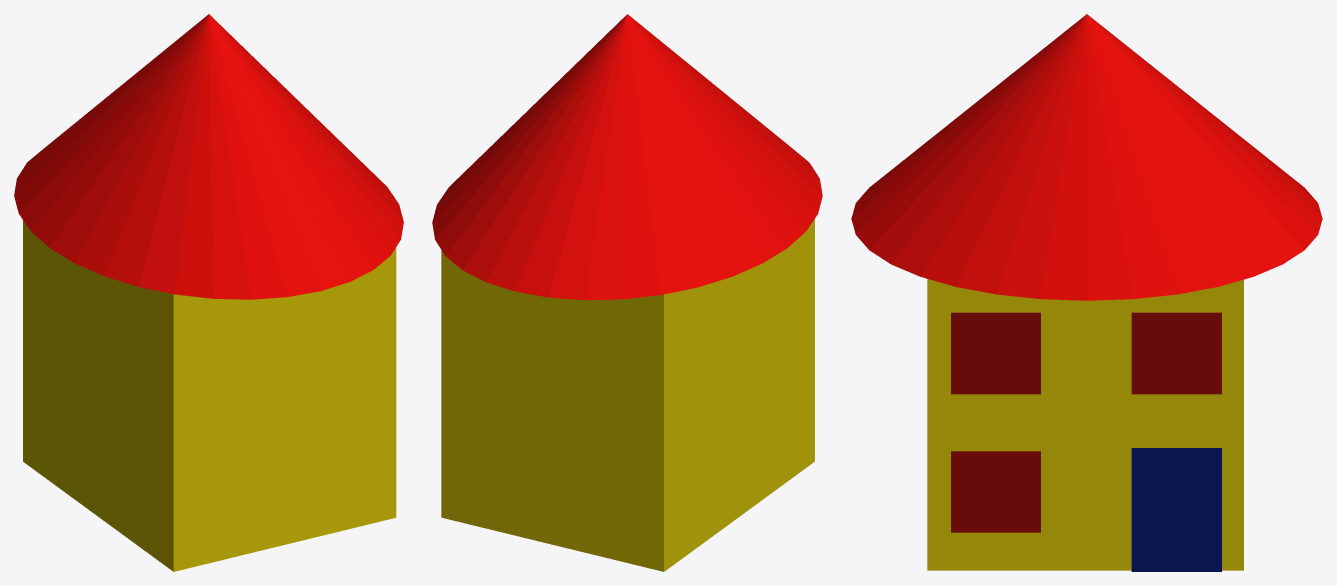
Rendered from building 4.fbx.
3 renders of one model, left to right at view 1: azimuth 30°, elevation 25°; view 2: azimuth 150°, elevation 25°; view 3: azimuth 270°, elevation 25°, orthographic. The views are drawn at different scales.
Visible parts, largest first — view 1: Cone.001, Cube.010, Cube.011; view 2: Cone.001, Cube.010, Cube.011; view 3: Cone.001, Cube.010, Cube.011, Plane.029, Plane.025, Plane.024, Plane.027.
Part boxes in pixels (x1,y1,x2,y2): Cone.001: [14, 14, 403, 299]; Cube.010: [23, 322, 396, 571]; Cube.011: [23, 220, 396, 431]; Cone.001: [432, 14, 822, 300]; Cube.010: [441, 322, 814, 571]; Cube.011: [441, 219, 814, 431]; Cone.001: [851, 14, 1322, 300]; Cube.010: [927, 423, 1243, 570]; Cube.011: [927, 279, 1243, 423]; Plane.029: [1131, 448, 1221, 571]; Plane.025: [1131, 312, 1221, 394]; Plane.024: [951, 312, 1040, 394]; Plane.027: [951, 451, 1040, 532].
Size of the model in its own units: 860 by 1227 by 1047.
